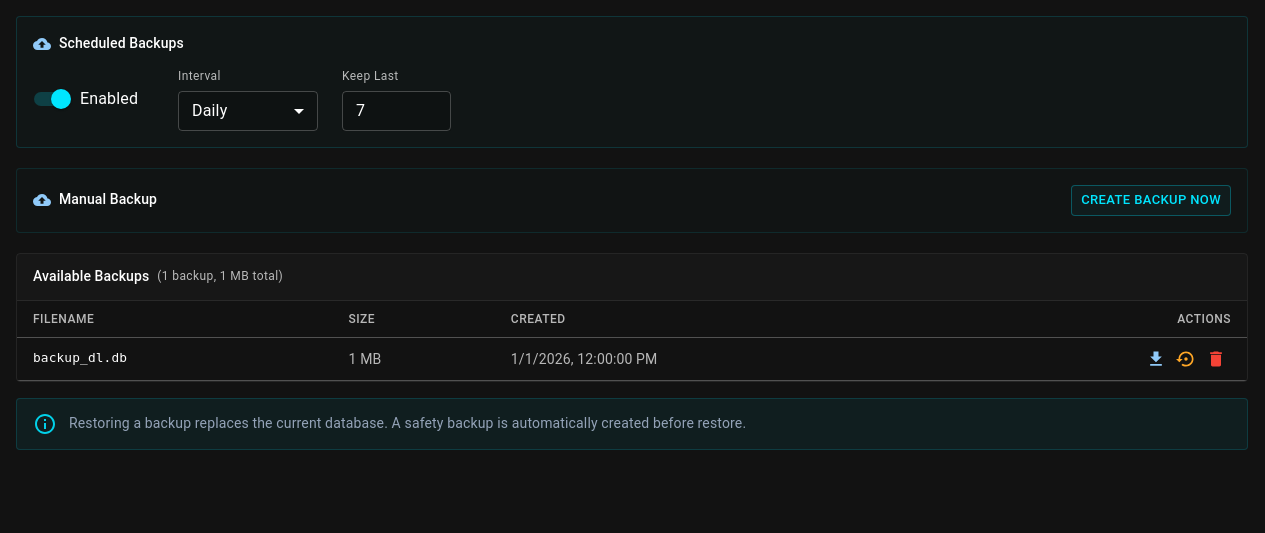
Test: BackupTab › download backup › shows an error alert when download fails
This screenshot has width=1265, height=533.
Expected: the text "backup_dl.db" is shown, 17,337 -> 332,380
What coordinates should you click on to do the following:
click the button named "Download"
I would click on:
 (1156, 359)
Its box is 1141,344 -> 1171,374.
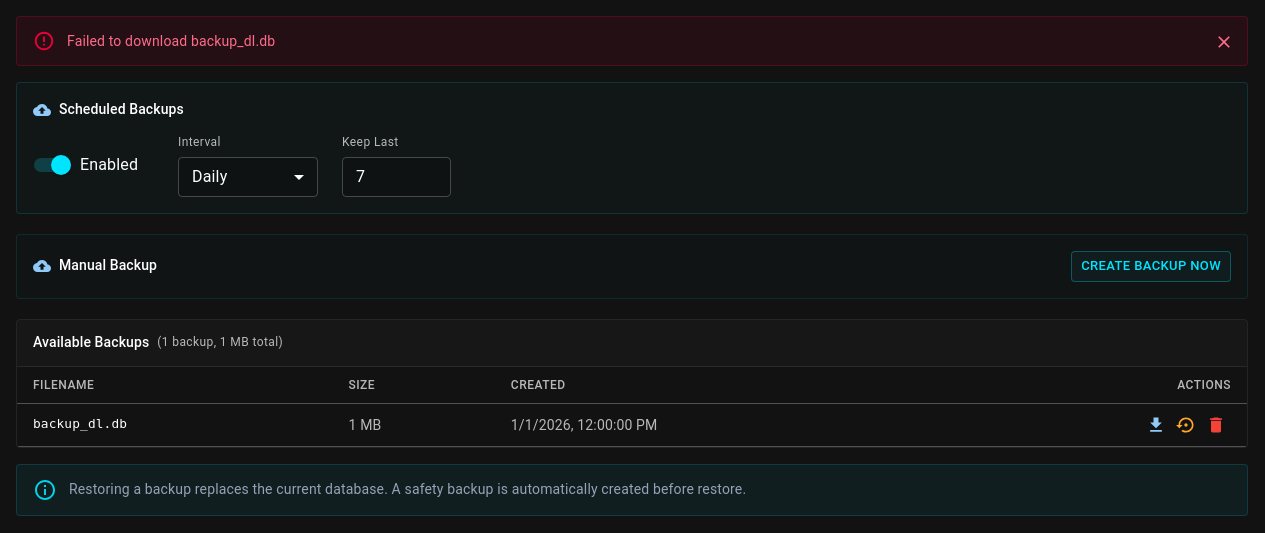
Expected: the text "Failed to download backup_dl.db" is shown, 67,33 -> 275,49
